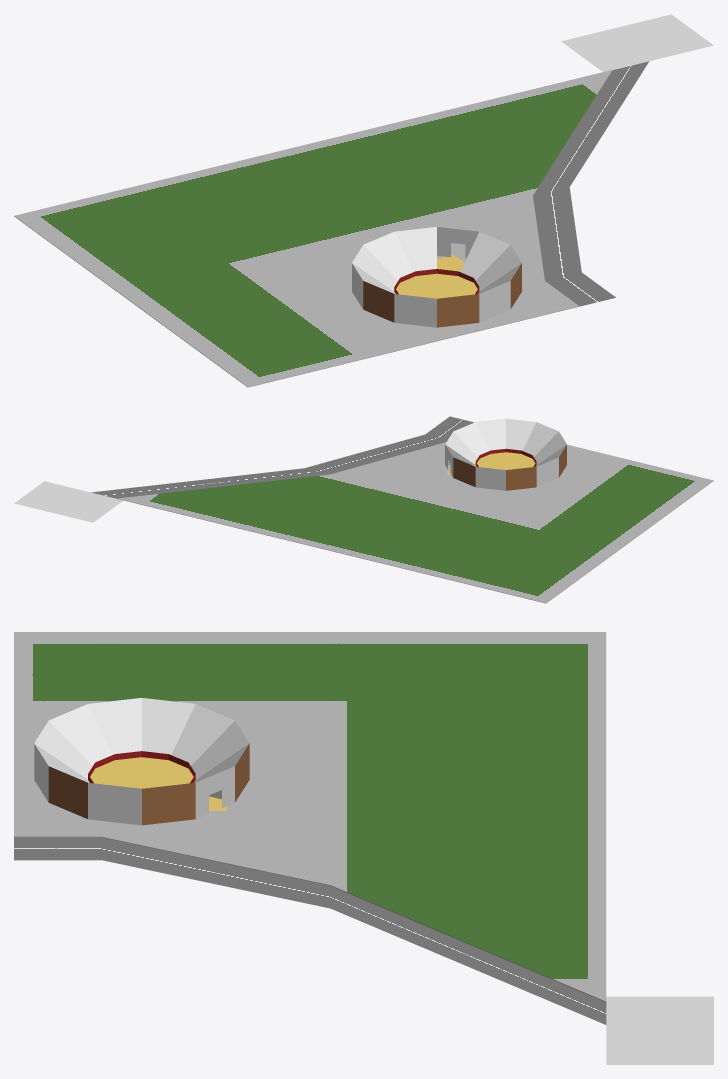
Rendered from mapa.glb.
3 renders of one model, top to bottom at view 1: azimuth 30°, elevation 25°; view 2: azimuth 150°, elevation 25°; view 3: azimuth 270°, elevation 25°, orthographic. The views are drawn at different scales.
Parts seen in each view (by area): view 1: Sidewalk, Circle, Avenue, Plane; view 2: Sidewalk, Circle, Avenue, Plane; view 3: Sidewalk, Circle, Avenue, Plane.
Boxes of the visible parts, x1,y1,x2,y2 form: Sidewalk: (14, 70, 612, 387); Circle: (352, 227, 521, 327); Avenue: (533, 61, 649, 306); Plane: (561, 14, 713, 71); Sidewalk: (117, 442, 713, 603); Circle: (445, 418, 566, 490); Avenue: (91, 416, 474, 498); Plane: (14, 481, 123, 522); Sidewalk: (14, 632, 606, 1001); Circle: (34, 698, 249, 825); Avenue: (14, 837, 606, 1024); Plane: (606, 996, 713, 1064).
Size of what is drawn, in the model's own units: 152 by 6.1 by 104.
7 materials, 2 textured.
